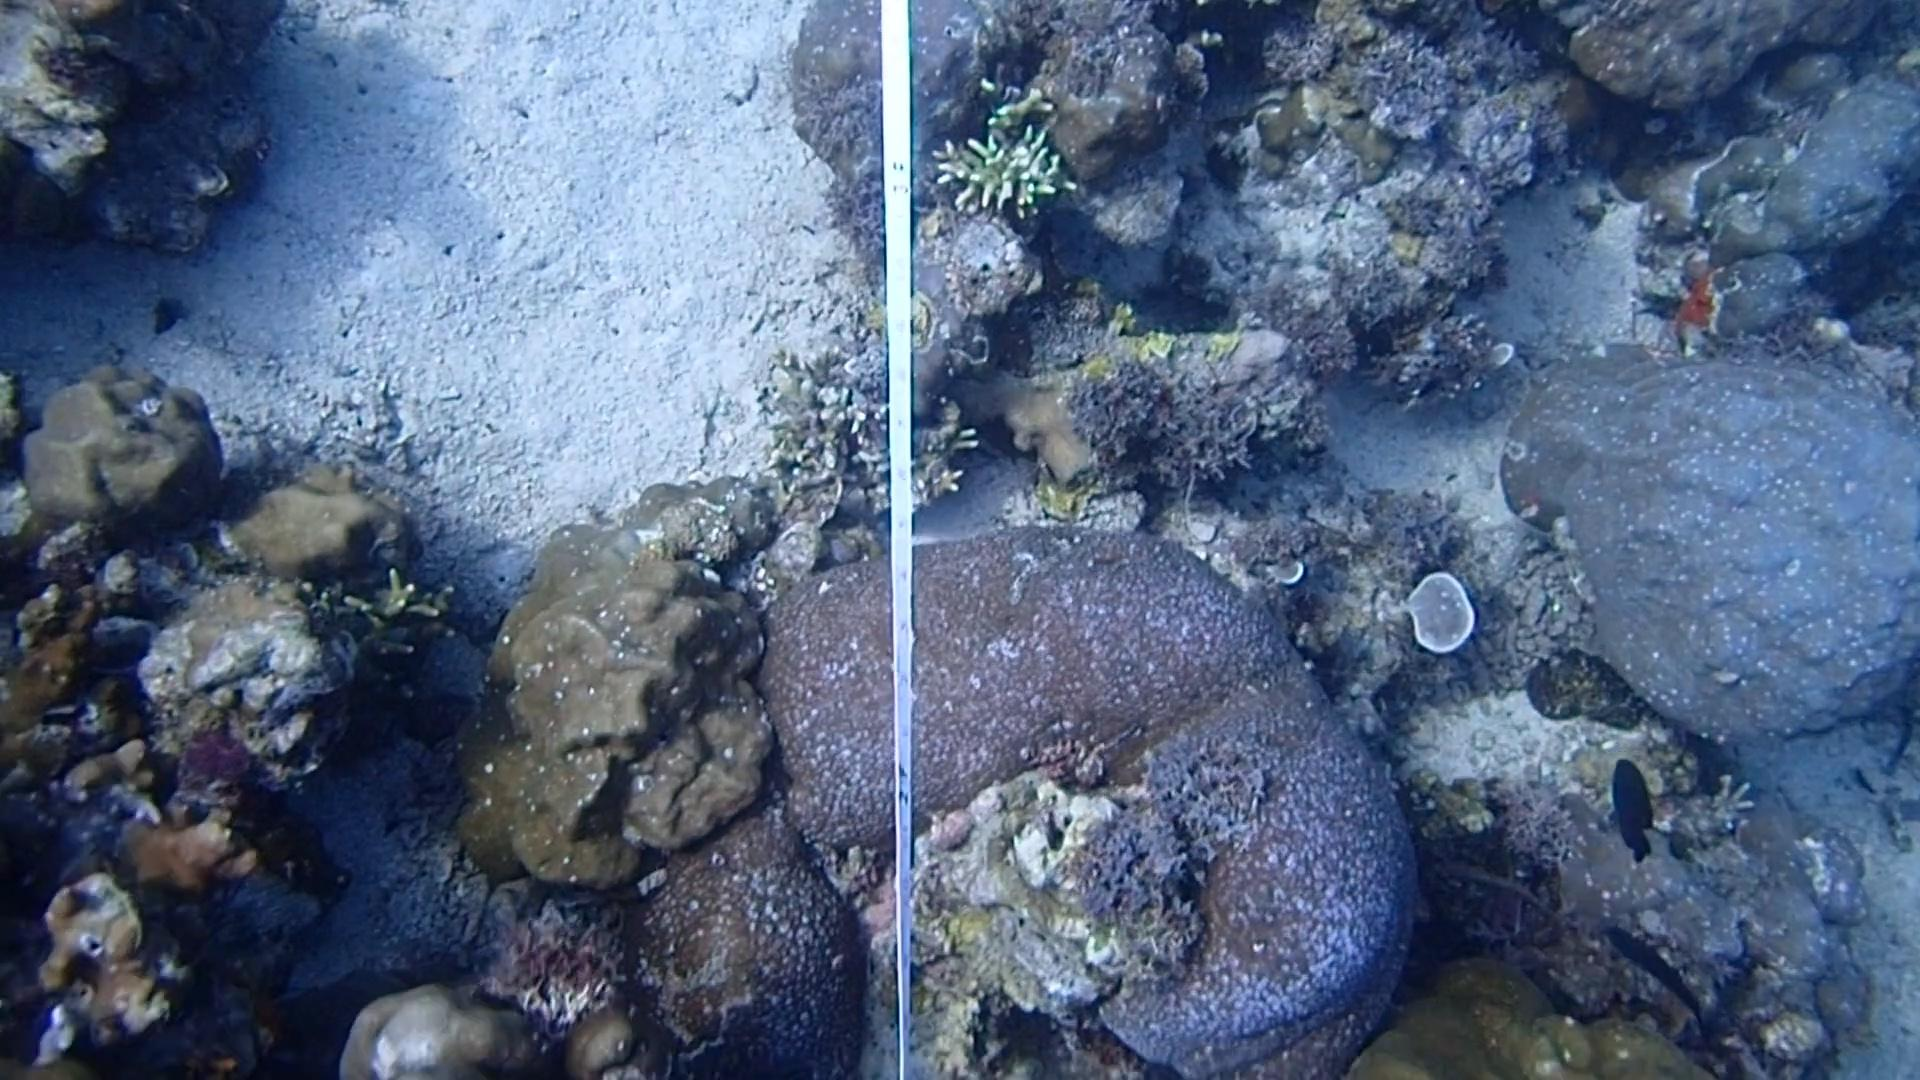Dark Fish: (1601, 752, 1667, 870)
